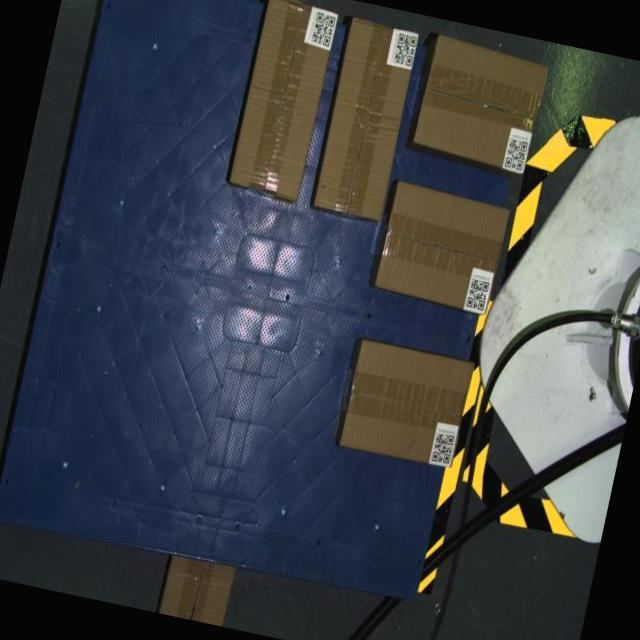box: (227, 0, 340, 201), (312, 17, 420, 221), (411, 33, 550, 174), (373, 180, 510, 316), (339, 339, 474, 470)
